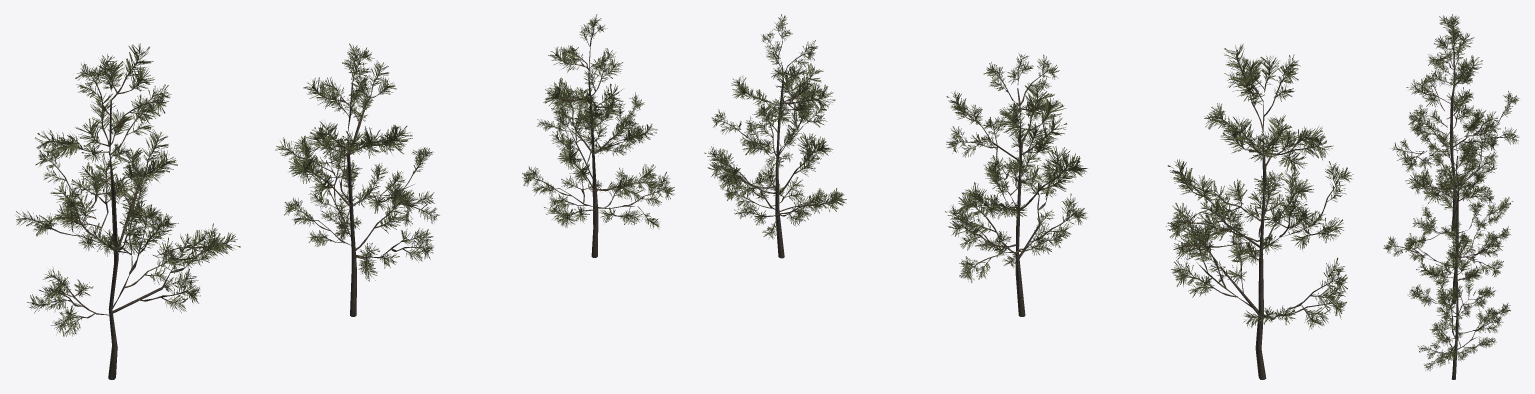
Rendered from pine_sapling_small.glb.
3 renders of one model, left to right at view 1: azimuth 30°, elevation 25°; view 2: azimuth 150°, elevation 25°; view 3: azimuth 270°, elevation 25°, orthographic. The views are drawn at different scales.
Parts seen in each view (by area): view 1: pine_sapling_small_a, pine_sapling_small_b, pine_sapling_small_c; view 2: pine_sapling_small_a, pine_sapling_small_b, pine_sapling_small_c; view 3: pine_sapling_small_a, pine_sapling_small_b, pine_sapling_small_c.
Part boxes in pixels (<box>): pine_sapling_small_a: <box>16,43,240,379</box>; pine_sapling_small_b: <box>275,43,439,316</box>; pine_sapling_small_c: <box>522,14,674,257</box>; pine_sapling_small_a: <box>1166,43,1353,379</box>; pine_sapling_small_b: <box>945,53,1087,316</box>; pine_sapling_small_c: <box>704,14,846,258</box>; pine_sapling_small_a: <box>1390,14,1519,230</box>; pine_sapling_small_b: <box>1383,134,1513,304</box>; pine_sapling_small_c: <box>1407,223,1510,379</box>.
Bounding box in the file's own units: 2.64 × 1.3 × 0.7705.
Materials: 2 (2 with a texture image).
